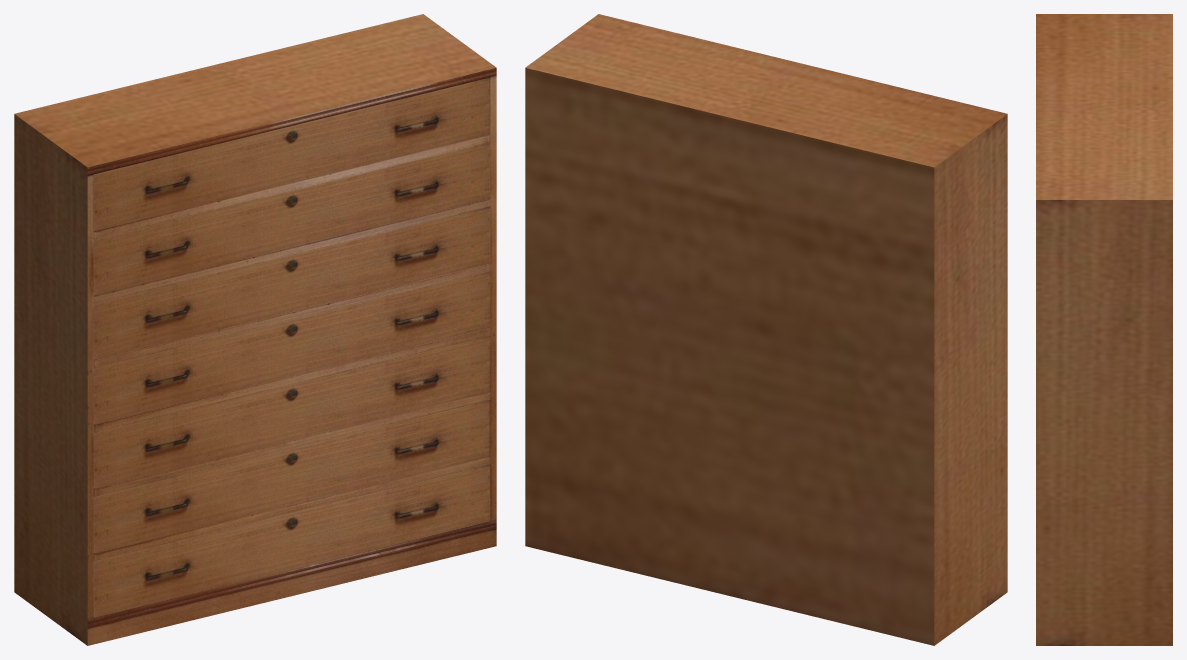
The model's file is drawer_c.fbx.
3 views of the same model, side by side, from view 1: azimuth 30°, elevation 25°; view 2: azimuth 150°, elevation 25°; view 3: azimuth 270°, elevation 25° (orthographic). The views are drawn at different scales.
Parts seen in each view (by area): view 1: base1, drawer1, drawer6, drawer7, drawer2, drawer3, drawer4, drawer5; view 2: base1; view 3: base1.
Boxes of the visible parts, x1,y1,x2,y2 form: base1: (14,14,496,645); drawer1: (93,77,489,231); drawer6: (93,400,489,553); drawer7: (93,464,489,617); drawer2: (93,142,489,295); drawer3: (93,207,489,360); drawer4: (93,272,489,424); drawer5: (93,337,489,489); base1: (525,14,1007,645); base1: (1036,14,1172,645).
Size of the model in its own units: 71.58 by 79.99 by 22.25.
Materials: 1 (1 with a texture image).
